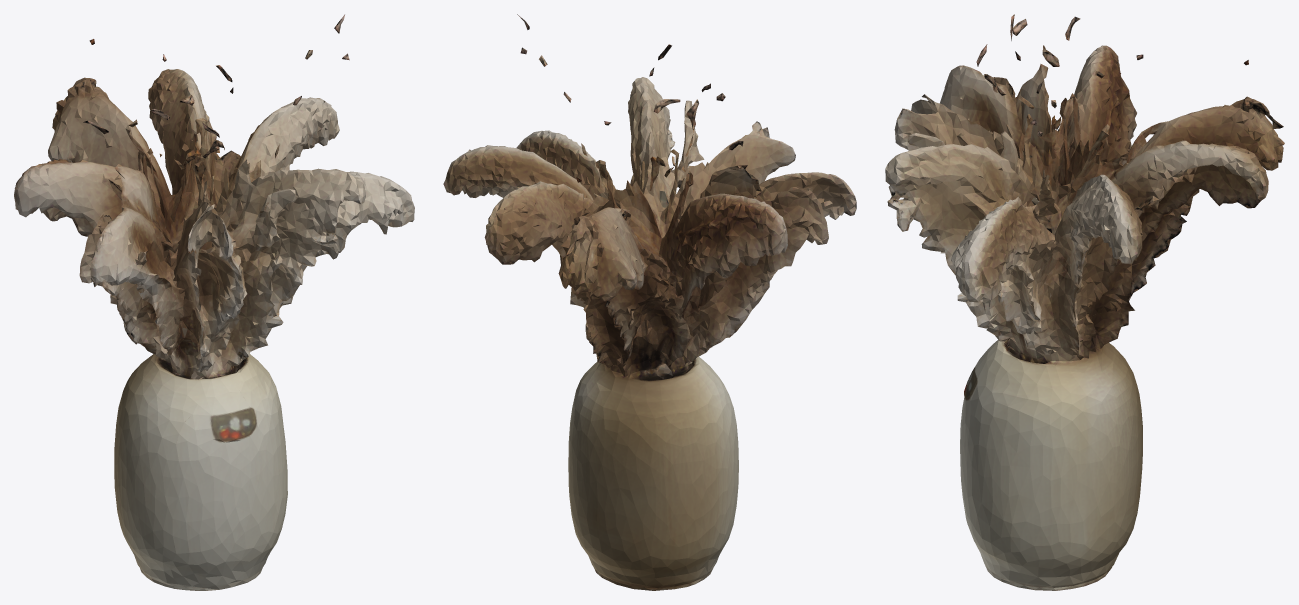
The picture shows the model from 3 angles, left to right: view 1: azimuth 30°, elevation 25°; view 2: azimuth 150°, elevation 25°; view 3: azimuth 270°, elevation 25°; orthographic projection. The views are drawn at different scales.
Parts seen in each view (by area): view 1: world; view 2: world; view 3: world.
Boxes of the visible parts, box(x1,y1,x2,y2) form: world: box(14, 14, 414, 590); world: box(443, 14, 856, 590); world: box(885, 14, 1284, 590).
Size of the model in its own units: 0.6693 by 0.9886 by 0.6447.
1 material, 1 textured.
